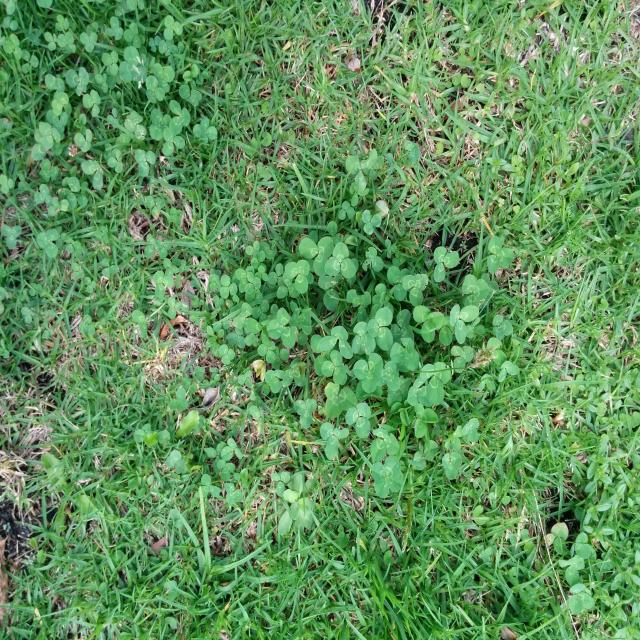Four Leaf Clover: (372, 455, 403, 498)
